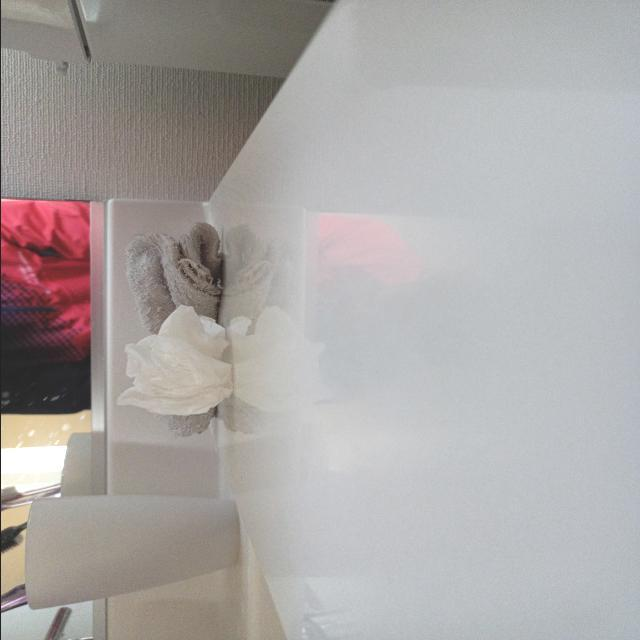Paper: (106, 298, 251, 420)
